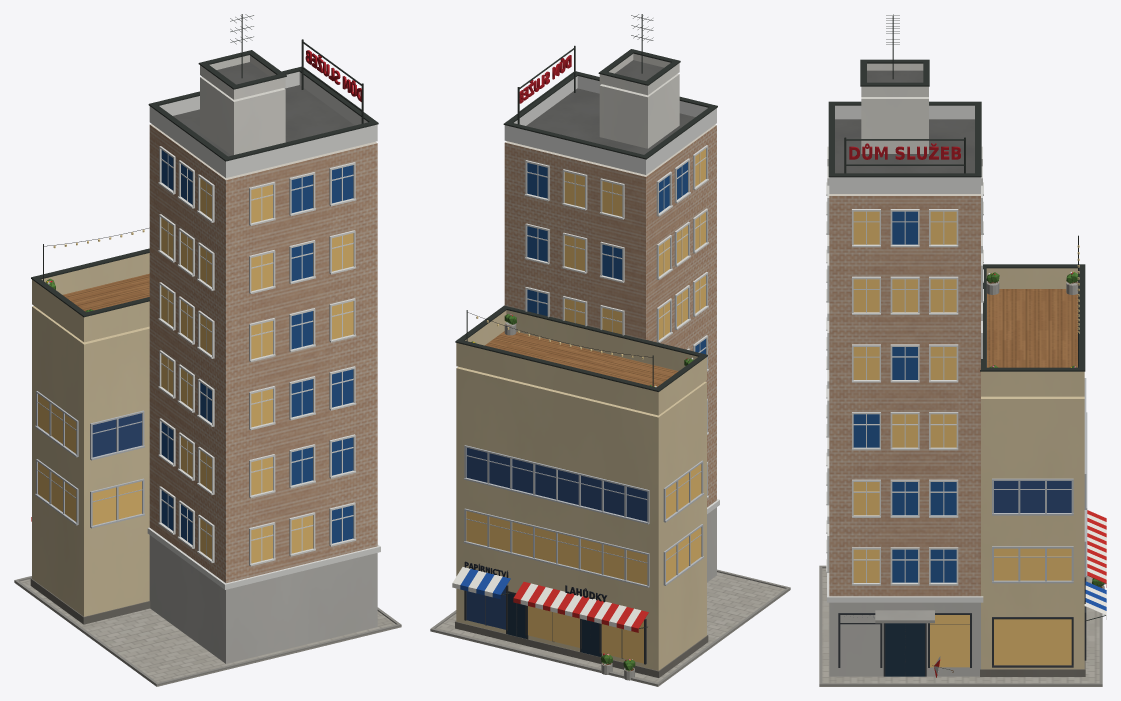
File: dum_00_vysoky_1.glb
3 views of the same model, side by side, from view 1: azimuth 30°, elevation 25°; view 2: azimuth 150°, elevation 25°; view 3: azimuth 270°, elevation 25° (orthographic). The views are drawn at different scales.
Visible parts, largest first — view 1: dum, noc; view 2: dum, noc; view 3: dum, noc.
Boxes of the visible parts, x1,y1,x2,y2 form: dum: (14, 14, 401, 686); noc: (38, 178, 353, 563); dum: (430, 14, 790, 686); noc: (466, 149, 705, 663); dum: (819, 14, 1106, 686); noc: (853, 211, 1079, 667).
Size of the model in its own units: 12.1 by 28.88 by 12.29.
1 material, 1 textured.
